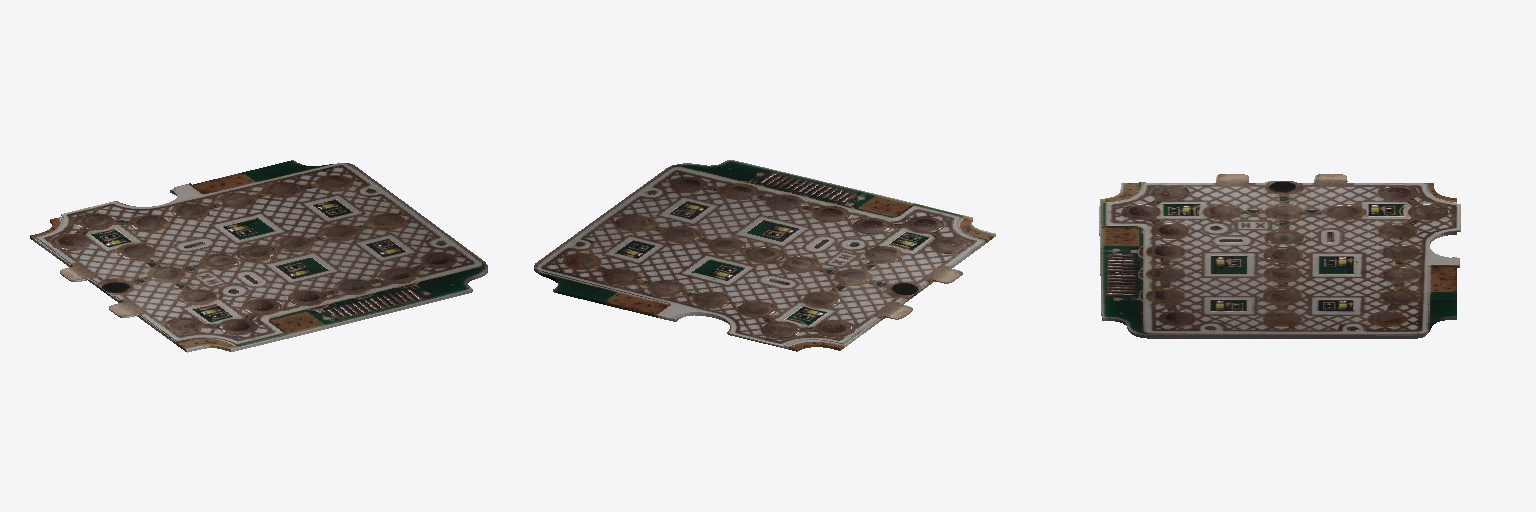
3 renders of one model, left to right at view 1: azimuth 30°, elevation 25°; view 2: azimuth 150°, elevation 25°; view 3: azimuth 270°, elevation 25°, orthographic.
Size of the model in its own units: 411 by 5.41 by 389.
2 materials, 2 textured.